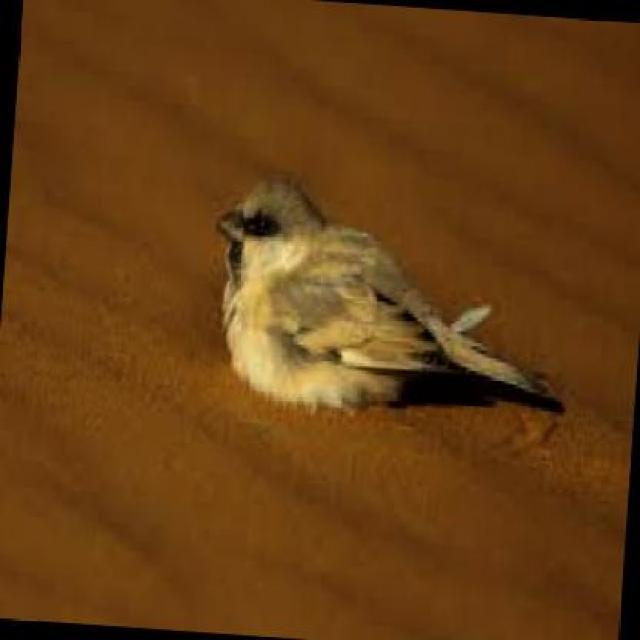Bird: (208, 168, 573, 428)
